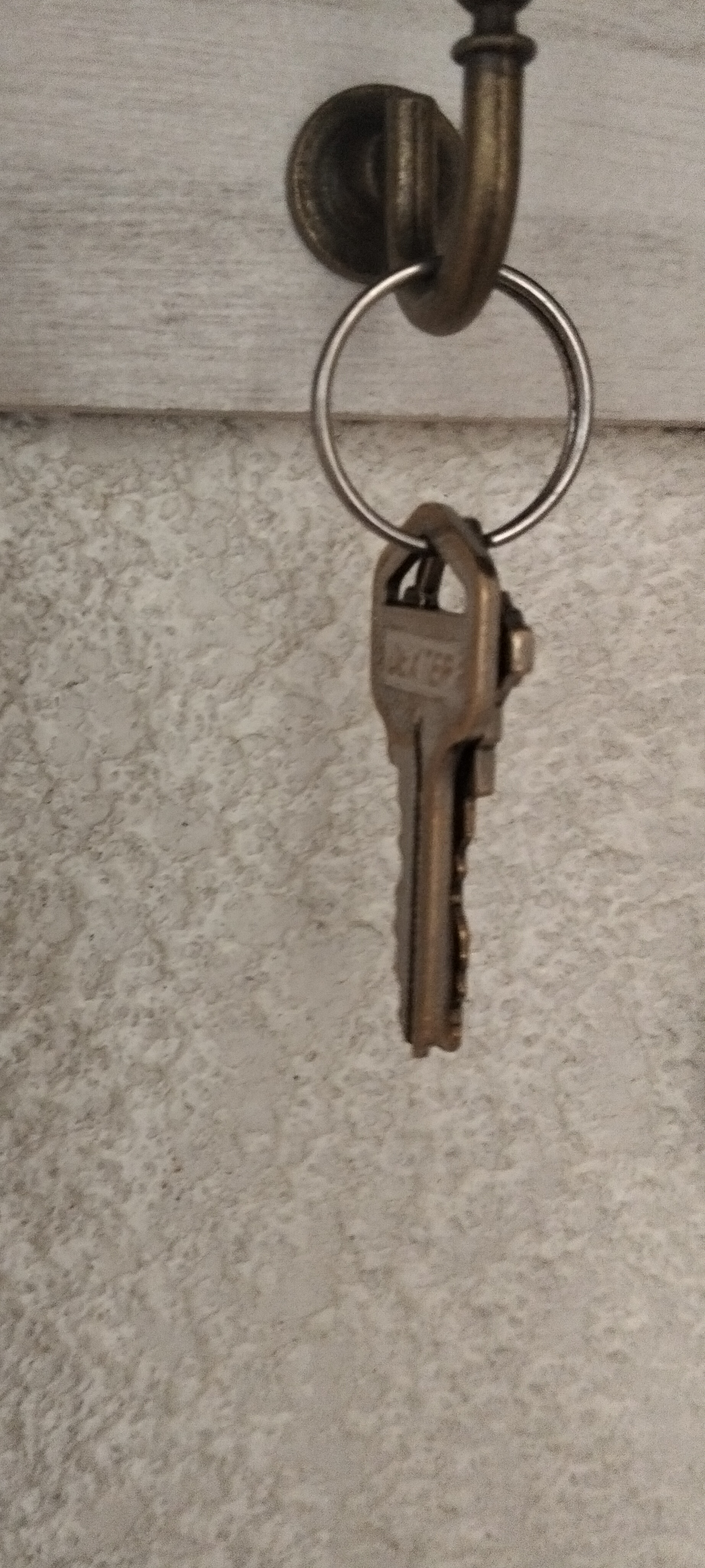llaves: (228, 226, 629, 1090)
